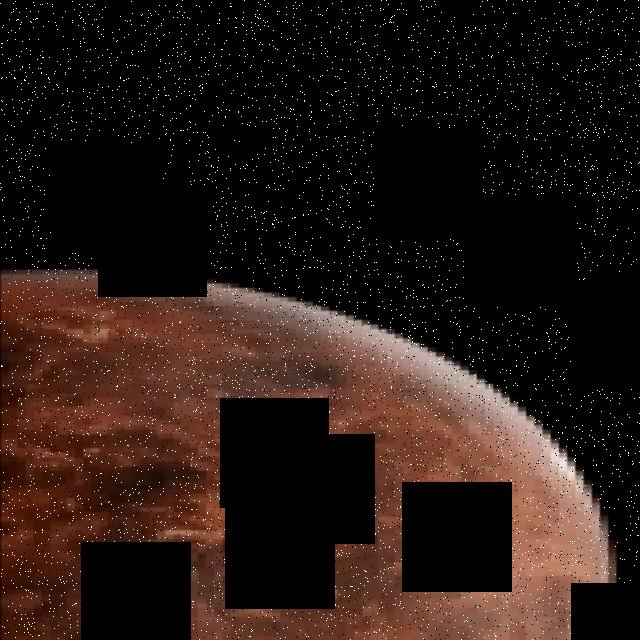Venus: (0, 265, 624, 640)
